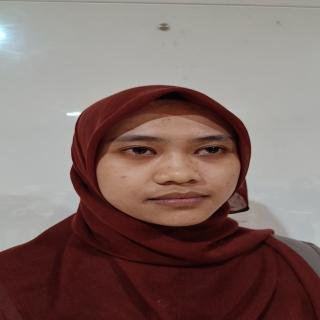Netral: (87, 96, 250, 233)
